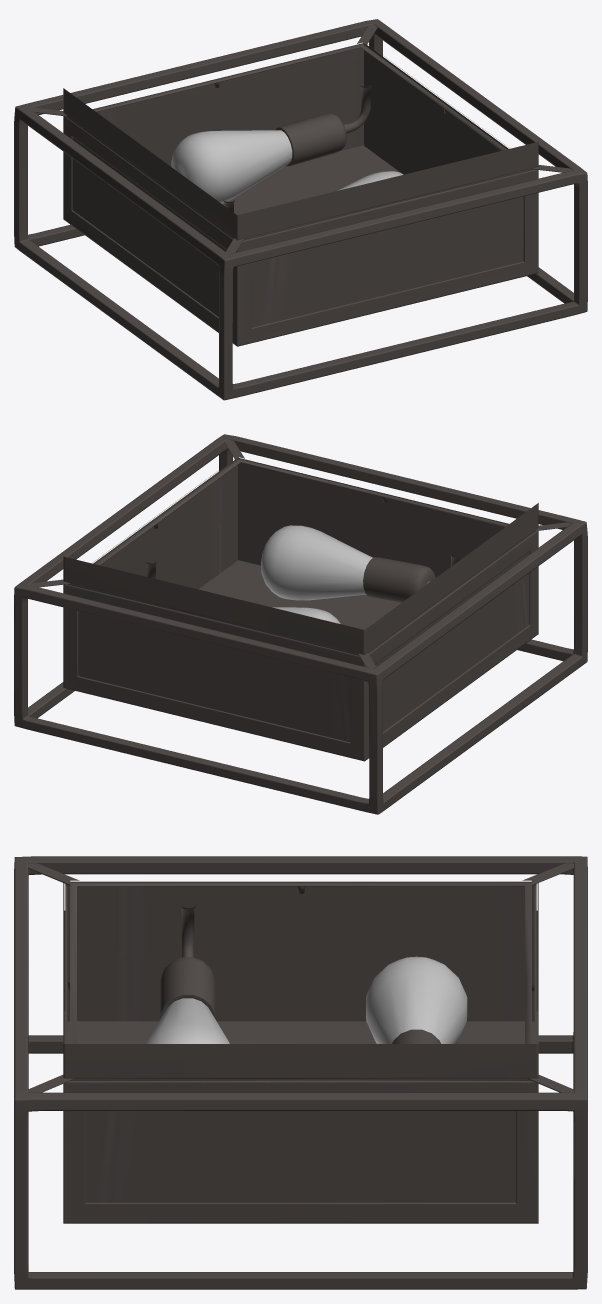
File: abo-B071HSMDRP.glb
The picture shows the model from 3 angles, top to bottom: view 1: azimuth 30°, elevation 25°; view 2: azimuth 150°, elevation 25°; view 3: azimuth 270°, elevation 25°; orthographic projection. The views are drawn at different scales.
Size of the model in its own units: 0.441 by 0.191 by 0.441.
1 material, 1 textured.
